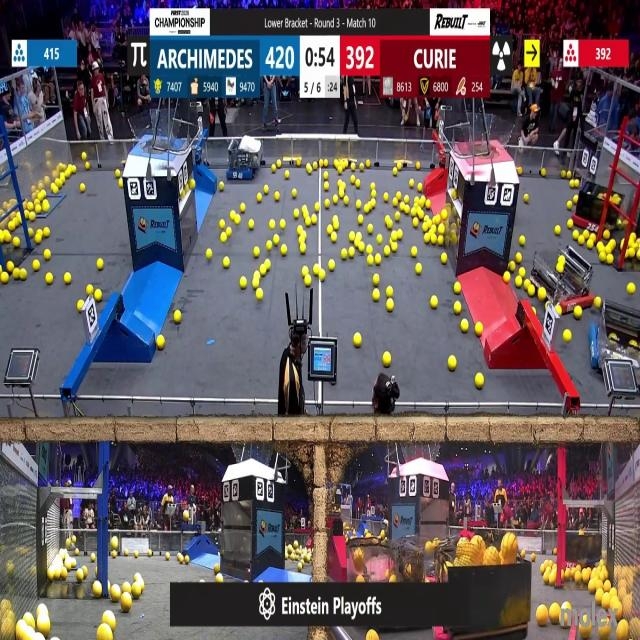ball_airborne: (183, 512, 188, 522)
ball_ground: (38, 618, 51, 636), (550, 604, 561, 624), (536, 609, 547, 628), (618, 622, 629, 640), (103, 614, 115, 630), (120, 595, 130, 612), (97, 627, 110, 640), (111, 587, 121, 602), (94, 583, 103, 599), (133, 584, 143, 598), (110, 536, 119, 551), (474, 374, 482, 390), (383, 352, 391, 367), (449, 356, 457, 370), (474, 322, 482, 336), (538, 287, 546, 301), (26, 616, 35, 628), (460, 320, 468, 333), (596, 592, 603, 606), (594, 296, 602, 308), (64, 274, 72, 286), (1, 273, 9, 285), (573, 307, 581, 319), (158, 338, 166, 350), (354, 335, 361, 348), (174, 311, 181, 324), (366, 631, 376, 640), (386, 286, 394, 297), (628, 283, 636, 294), (516, 277, 524, 288), (348, 248, 356, 259), (76, 569, 84, 580), (387, 300, 394, 312), (429, 296, 436, 308), (222, 256, 229, 268), (454, 303, 461, 315), (255, 288, 262, 300), (45, 274, 52, 286), (564, 331, 571, 343), (95, 290, 102, 302), (374, 275, 381, 287), (42, 201, 49, 213), (589, 582, 596, 594), (602, 596, 609, 608), (348, 233, 356, 243), (522, 278, 530, 288), (627, 248, 635, 258), (454, 283, 461, 294), (313, 266, 320, 277), (341, 249, 348, 260), (252, 278, 259, 289), (503, 272, 509, 284), (372, 290, 378, 302), (587, 240, 595, 249), (122, 584, 130, 593), (6, 264, 13, 274), (253, 248, 260, 258), (366, 254, 373, 264), (599, 252, 606, 262), (12, 238, 19, 248), (519, 268, 526, 278), (259, 267, 266, 277), (334, 221, 341, 231), (302, 233, 309, 243), (412, 246, 418, 257), (241, 278, 247, 289), (416, 265, 422, 276), (19, 270, 25, 281), (98, 260, 104, 271), (306, 276, 312, 287), (376, 254, 382, 265), (424, 234, 430, 245), (387, 218, 393, 229), (403, 205, 409, 216), (77, 301, 83, 312), (82, 567, 88, 578), (604, 582, 610, 593), (542, 573, 548, 584), (0, 232, 5, 245), (603, 232, 610, 241), (365, 245, 372, 254), (355, 233, 362, 242), (396, 232, 403, 241), (29, 212, 36, 221), (510, 264, 517, 273), (433, 216, 440, 225), (281, 245, 287, 255), (299, 244, 305, 254), (328, 262, 334, 272), (34, 262, 40, 272), (44, 250, 50, 260), (206, 249, 212, 259), (442, 253, 448, 263), (528, 286, 534, 296), (248, 219, 254, 229), (384, 246, 390, 256), (268, 241, 274, 251), (366, 223, 372, 233), (520, 236, 526, 246), (524, 192, 530, 202), (356, 200, 362, 210), (320, 271, 326, 281), (88, 285, 94, 295), (517, 252, 523, 262), (443, 210, 449, 220), (220, 233, 226, 243), (606, 254, 612, 264), (43, 229, 49, 239), (392, 242, 398, 252), (266, 262, 272, 272), (439, 236, 445, 246), (36, 235, 42, 245), (413, 218, 419, 228), (418, 209, 424, 219), (412, 207, 418, 217), (430, 236, 436, 246), (189, 179, 195, 189), (62, 569, 68, 579), (420, 197, 426, 207), (66, 168, 72, 178), (571, 232, 578, 240), (356, 574, 363, 582), (269, 220, 276, 228), (389, 574, 396, 582), (590, 234, 597, 242), (567, 219, 573, 228), (394, 212, 400, 221), (312, 215, 318, 224), (296, 224, 302, 233), (225, 227, 231, 236), (363, 205, 369, 214), (369, 200, 375, 209), (566, 202, 572, 211), (303, 268, 309, 277), (324, 200, 330, 209), (326, 224, 332, 233), (440, 224, 446, 233), (274, 236, 280, 245), (578, 237, 584, 246), (540, 169, 546, 178), (284, 171, 290, 180), (359, 244, 365, 253), (92, 554, 98, 563), (595, 240, 601, 249), (296, 563, 302, 572), (36, 205, 42, 214), (29, 230, 35, 239), (303, 208, 309, 217), (556, 224, 561, 234), (378, 235, 383, 245), (341, 184, 346, 194), (423, 215, 430, 222), (216, 574, 222, 582), (344, 198, 350, 206), (220, 220, 226, 228), (228, 212, 234, 220), (398, 204, 404, 212), (584, 232, 590, 240), (214, 564, 220, 572), (297, 236, 303, 244), (350, 164, 356, 172), (564, 601, 570, 609), (313, 163, 319, 171), (331, 234, 336, 243), (219, 181, 224, 190), (292, 188, 297, 197), (241, 204, 246, 213), (280, 219, 285, 228), (384, 192, 389, 201), (315, 203, 320, 212), (120, 181, 125, 190), (391, 233, 396, 242), (356, 179, 361, 188), (178, 555, 183, 564), (358, 215, 363, 224), (557, 306, 562, 315), (410, 179, 415, 188), (431, 224, 436, 233), (25, 211, 30, 220), (294, 208, 298, 219), (306, 218, 312, 225), (165, 554, 171, 561), (566, 172, 572, 179), (338, 168, 344, 175), (331, 195, 337, 202), (571, 195, 577, 202), (50, 185, 56, 192), (276, 190, 280, 200), (115, 170, 120, 178), (256, 192, 261, 200), (236, 215, 241, 223), (265, 185, 270, 193), (405, 197, 410, 205), (393, 200, 398, 208), (531, 554, 536, 562), (81, 151, 86, 159), (272, 166, 277, 174), (184, 556, 189, 564), (423, 223, 428, 231), (516, 166, 521, 174), (396, 191, 401, 199), (631, 234, 636, 242), (636, 249, 640, 259), (80, 183, 84, 192), (426, 200, 430, 209), (370, 190, 375, 197), (418, 183, 423, 190), (308, 168, 313, 175), (416, 164, 421, 171), (71, 167, 76, 174), (574, 180, 579, 187), (324, 182, 328, 190), (85, 160, 89, 168), (562, 170, 566, 178), (324, 172, 328, 180), (370, 182, 374, 190), (359, 164, 363, 172), (570, 180, 574, 188), (277, 161, 282, 167), (135, 553, 140, 559), (148, 552, 152, 559), (393, 169, 397, 176), (296, 161, 300, 168), (112, 552, 116, 559), (75, 550, 79, 557), (324, 162, 328, 168), (554, 546, 557, 554)
goal: (461, 118, 517, 158), (128, 115, 186, 152)
robot_blue: (227, 139, 262, 181)
robot_red: (594, 303, 640, 397), (539, 243, 594, 312), (576, 180, 609, 232), (564, 529, 598, 567)
